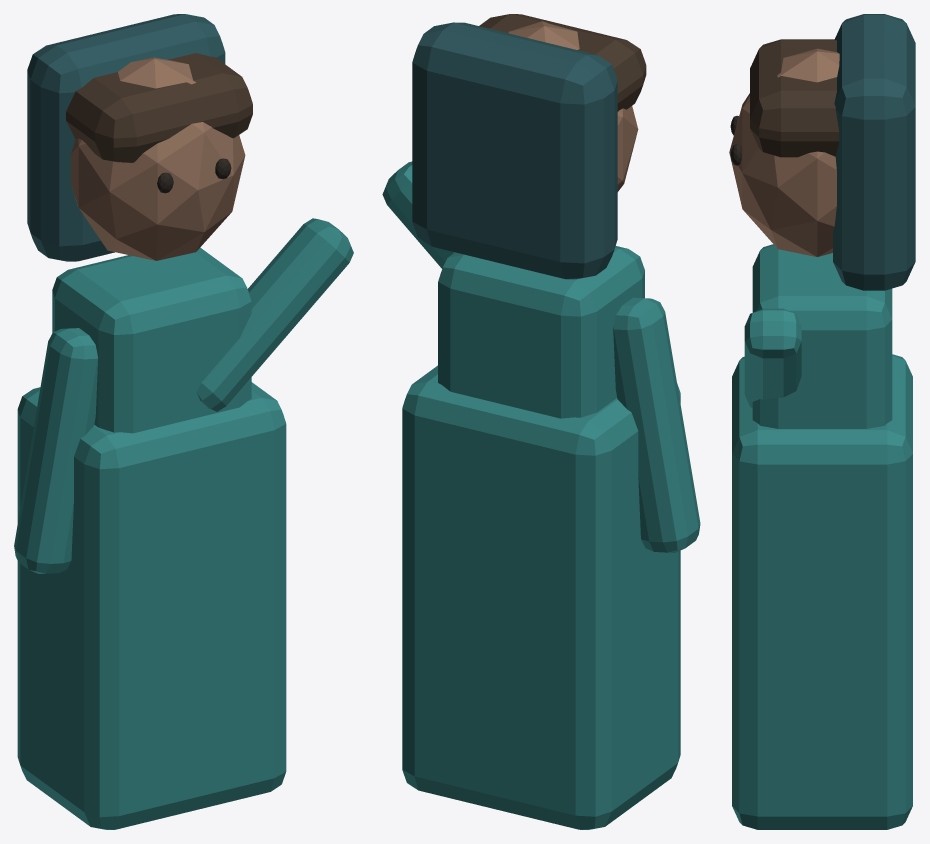
The model's file is lady_whispers_3995.glb.
The picture shows the model from 3 angles, left to right: view 1: azimuth 30°, elevation 25°; view 2: azimuth 150°, elevation 25°; view 3: azimuth 270°, elevation 25°; orthographic projection. The views are drawn at different scales.
Parts seen in each view (by area): view 1: Quiet long skirt, Quiet bodice, Head, Hushed veil, Lowered arm, Hair cap, Hand-near-mouth arm; view 2: Quiet long skirt, Hushed veil, Quiet bodice, Lowered arm, Hair cap, Head, Hand-near-mouth arm; view 3: Quiet long skirt, Hushed veil, Quiet bodice, Head, Hair cap, Hand-near-mouth arm.
Boxes of the visible parts, x1,y1,x2,y2 form: Quiet long skirt: (17,382,286,829); Quiet bodice: (52,247,251,433); Head: (71,57,245,260); Hushed veil: (27,14,225,261); Lowered arm: (14,328,98,573); Hair cap: (66,53,252,162); Hand-near-mouth arm: (196,218,353,411); Quiet long skirt: (402,365,680,829); Hushed veil: (412,22,617,279); Quiet bodice: (438,246,644,418); Lowered arm: (613,297,700,552); Hair cap: (479,14,646,111); Head: (508,21,638,191); Hand-near-mouth arm: (382,161,454,268); Quiet long skirt: (732,354,912,829); Hushed veil: (833,14,915,290); Quiet bodice: (752,244,892,428); Head: (729,48,839,256); Hair cap: (750,39,839,157); Hand-near-mouth arm: (744,308,801,407).
Size of the model in its own units: 1.39 by 3.17 by 0.72.
